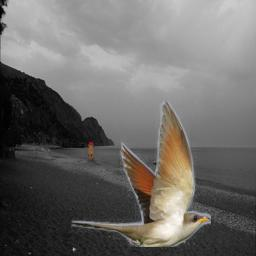Cuckoo: (71, 101, 211, 247)
